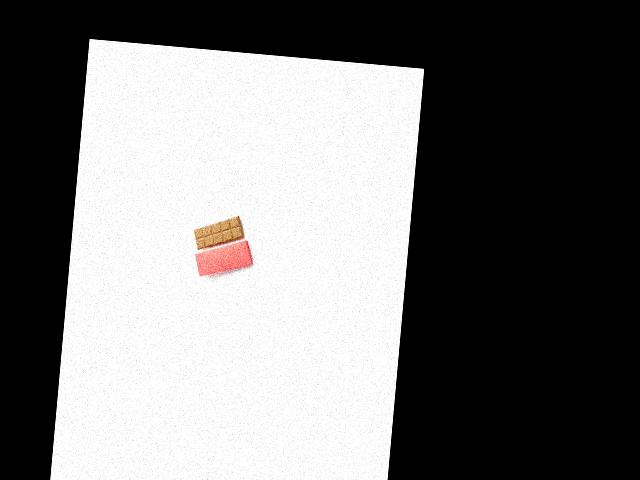chocolate: (191, 212, 248, 256)
